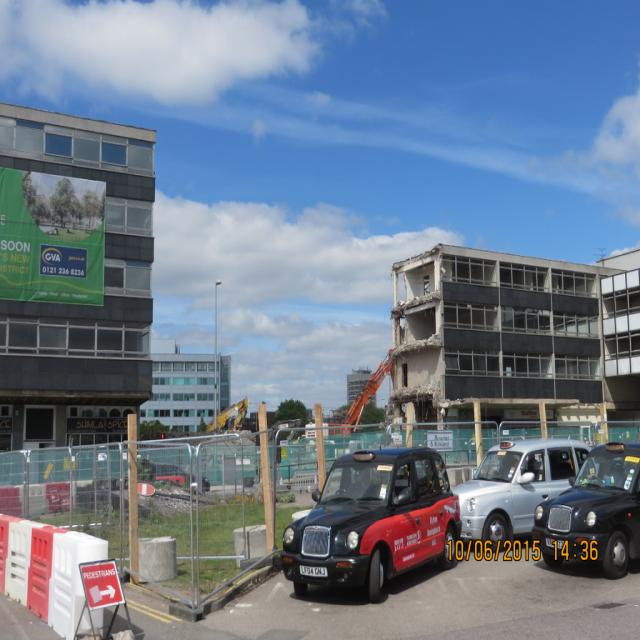car: (278, 446, 464, 603)
